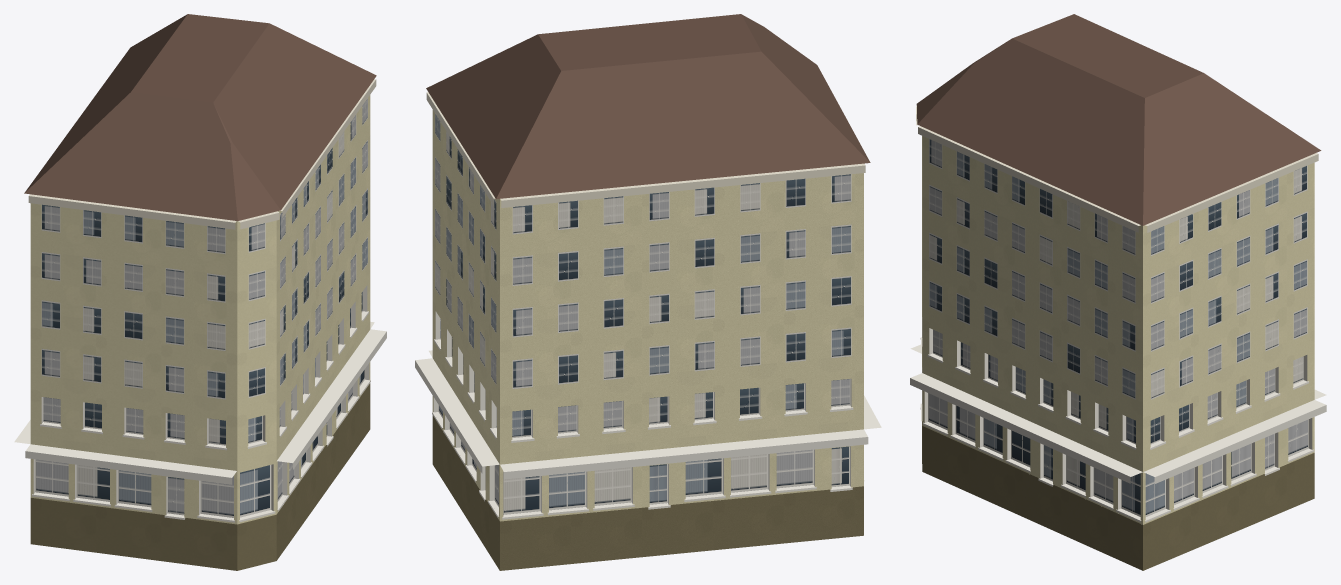
Rendered from z2c_konrad_n.glb.
The picture shows the model from 3 angles, left to right: view 1: azimuth 30°, elevation 25°; view 2: azimuth 150°, elevation 25°; view 3: azimuth 270°, elevation 25°; orthographic projection. The views are drawn at different scales.
Parts seen in each view (by area): view 1: z2c_konrad_n; view 2: z2c_konrad_n; view 3: z2c_konrad_n.
Part boxes in pixels (x1,y1,x2,y2): z2c_konrad_n: [14, 14, 386, 570]; z2c_konrad_n: [415, 14, 881, 570]; z2c_konrad_n: [910, 14, 1326, 570].
Size of the model in its own units: 26.61 by 27.72 by 24.66.
Materials: 3 (3 with a texture image).
